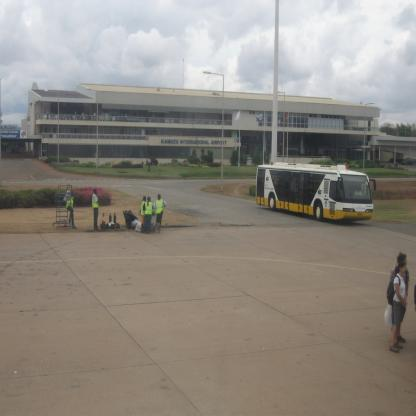bus: (257, 158, 380, 222)
